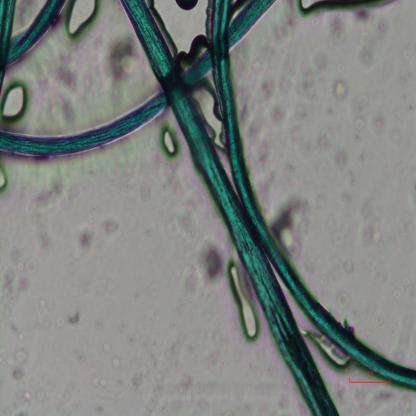Air bubble: (228, 262, 260, 345), (307, 329, 350, 372), (297, 1, 394, 16), (66, 1, 100, 40), (0, 82, 30, 126), (197, 81, 221, 132), (176, 33, 206, 67), (158, 126, 181, 161), (174, 0, 198, 13), (0, 165, 10, 195)
Background material: (241, 54, 319, 164), (0, 249, 37, 325), (270, 191, 309, 257), (101, 32, 143, 88), (34, 51, 80, 95), (356, 195, 388, 252), (116, 145, 149, 193), (30, 167, 67, 209), (196, 236, 226, 286), (348, 83, 376, 135), (332, 146, 359, 196), (366, 386, 411, 414), (25, 208, 52, 253), (172, 202, 194, 248), (13, 383, 48, 405), (10, 348, 29, 382), (75, 224, 95, 254), (60, 94, 76, 127), (82, 370, 109, 387), (339, 255, 356, 278), (100, 216, 119, 235), (65, 308, 81, 330), (332, 79, 348, 99), (336, 289, 348, 312), (110, 352, 124, 370), (75, 352, 85, 363)
Microfibre: (119, 0, 342, 416), (211, 1, 416, 388), (0, 1, 277, 159), (6, 0, 65, 68), (0, 0, 15, 92)
